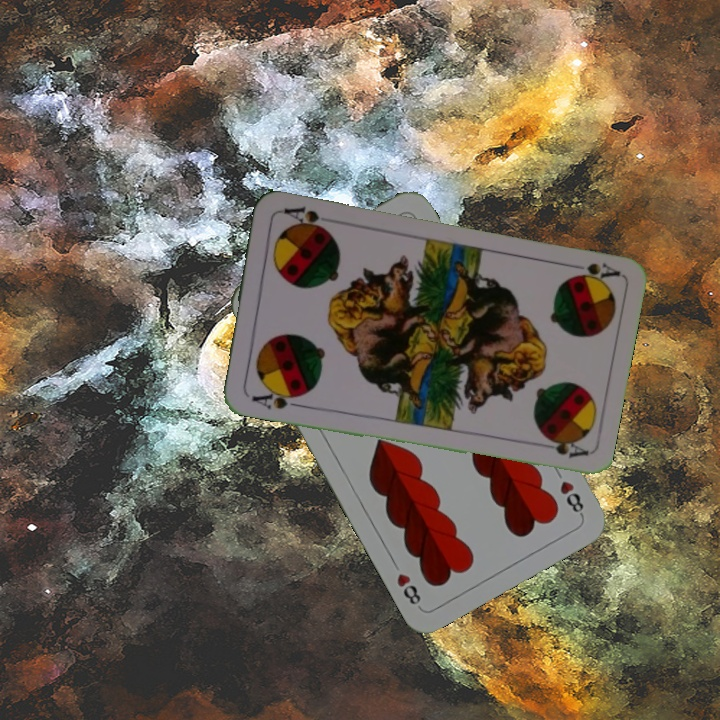H8: (556, 476, 587, 519)
SA: (563, 259, 622, 288), (247, 384, 303, 412)
